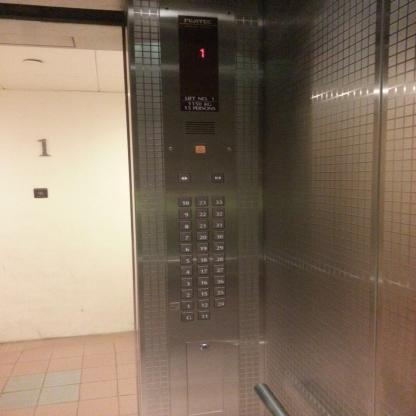1: (181, 300, 194, 310)
10: (179, 197, 191, 206)
11: (197, 310, 211, 320)
12: (196, 299, 209, 309)
15: (196, 288, 209, 297)
16: (196, 276, 209, 286)
17: (196, 265, 209, 275)
18: (196, 254, 209, 263)
19: (196, 243, 209, 252)
2: (180, 289, 194, 298)
20: (196, 232, 209, 240)
21: (196, 220, 209, 230)
22: (195, 208, 208, 218)
23: (195, 196, 208, 206)
24: (214, 298, 226, 307)
25: (212, 287, 226, 296)
26: (213, 275, 226, 285)
27: (213, 264, 226, 274)
28: (212, 253, 226, 262)
29: (212, 242, 225, 251)
3: (180, 278, 194, 287)
30: (212, 231, 225, 240)
31: (212, 219, 224, 228)
32: (212, 207, 224, 217)
33: (212, 196, 224, 206)
4: (180, 266, 193, 276)
5: (180, 255, 193, 264)
6: (180, 244, 192, 252)
7: (180, 233, 192, 241)
8: (178, 221, 192, 230)
9: (178, 209, 192, 218)
G: (182, 311, 194, 322)
alarm: (194, 143, 207, 155)
close: (211, 172, 225, 183)
keyhole: (200, 342, 209, 352)
led: (177, 14, 220, 113)
open: (177, 172, 191, 184)
